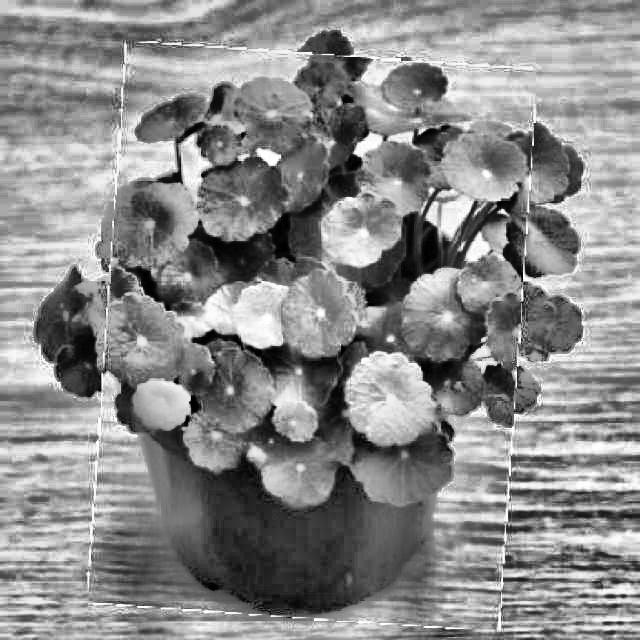plants: (97, 48, 528, 624)
